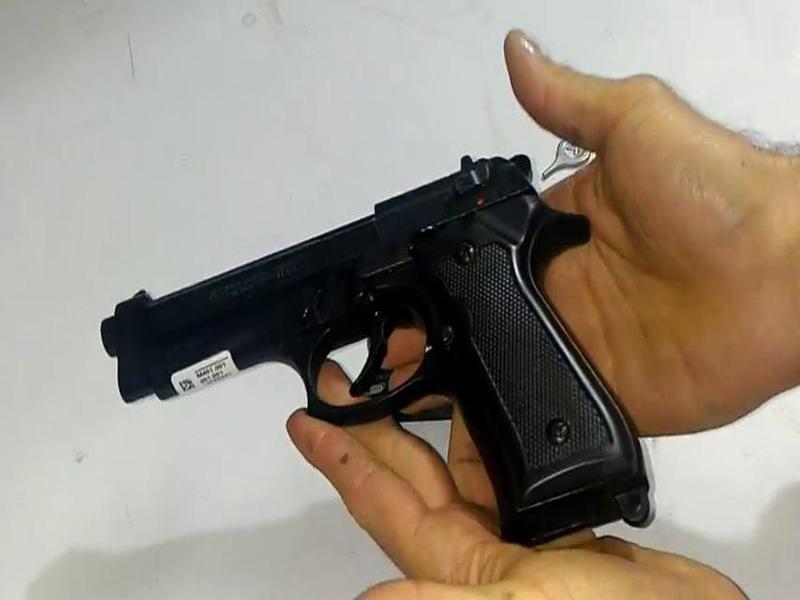Pistola: (100, 143, 654, 548)
